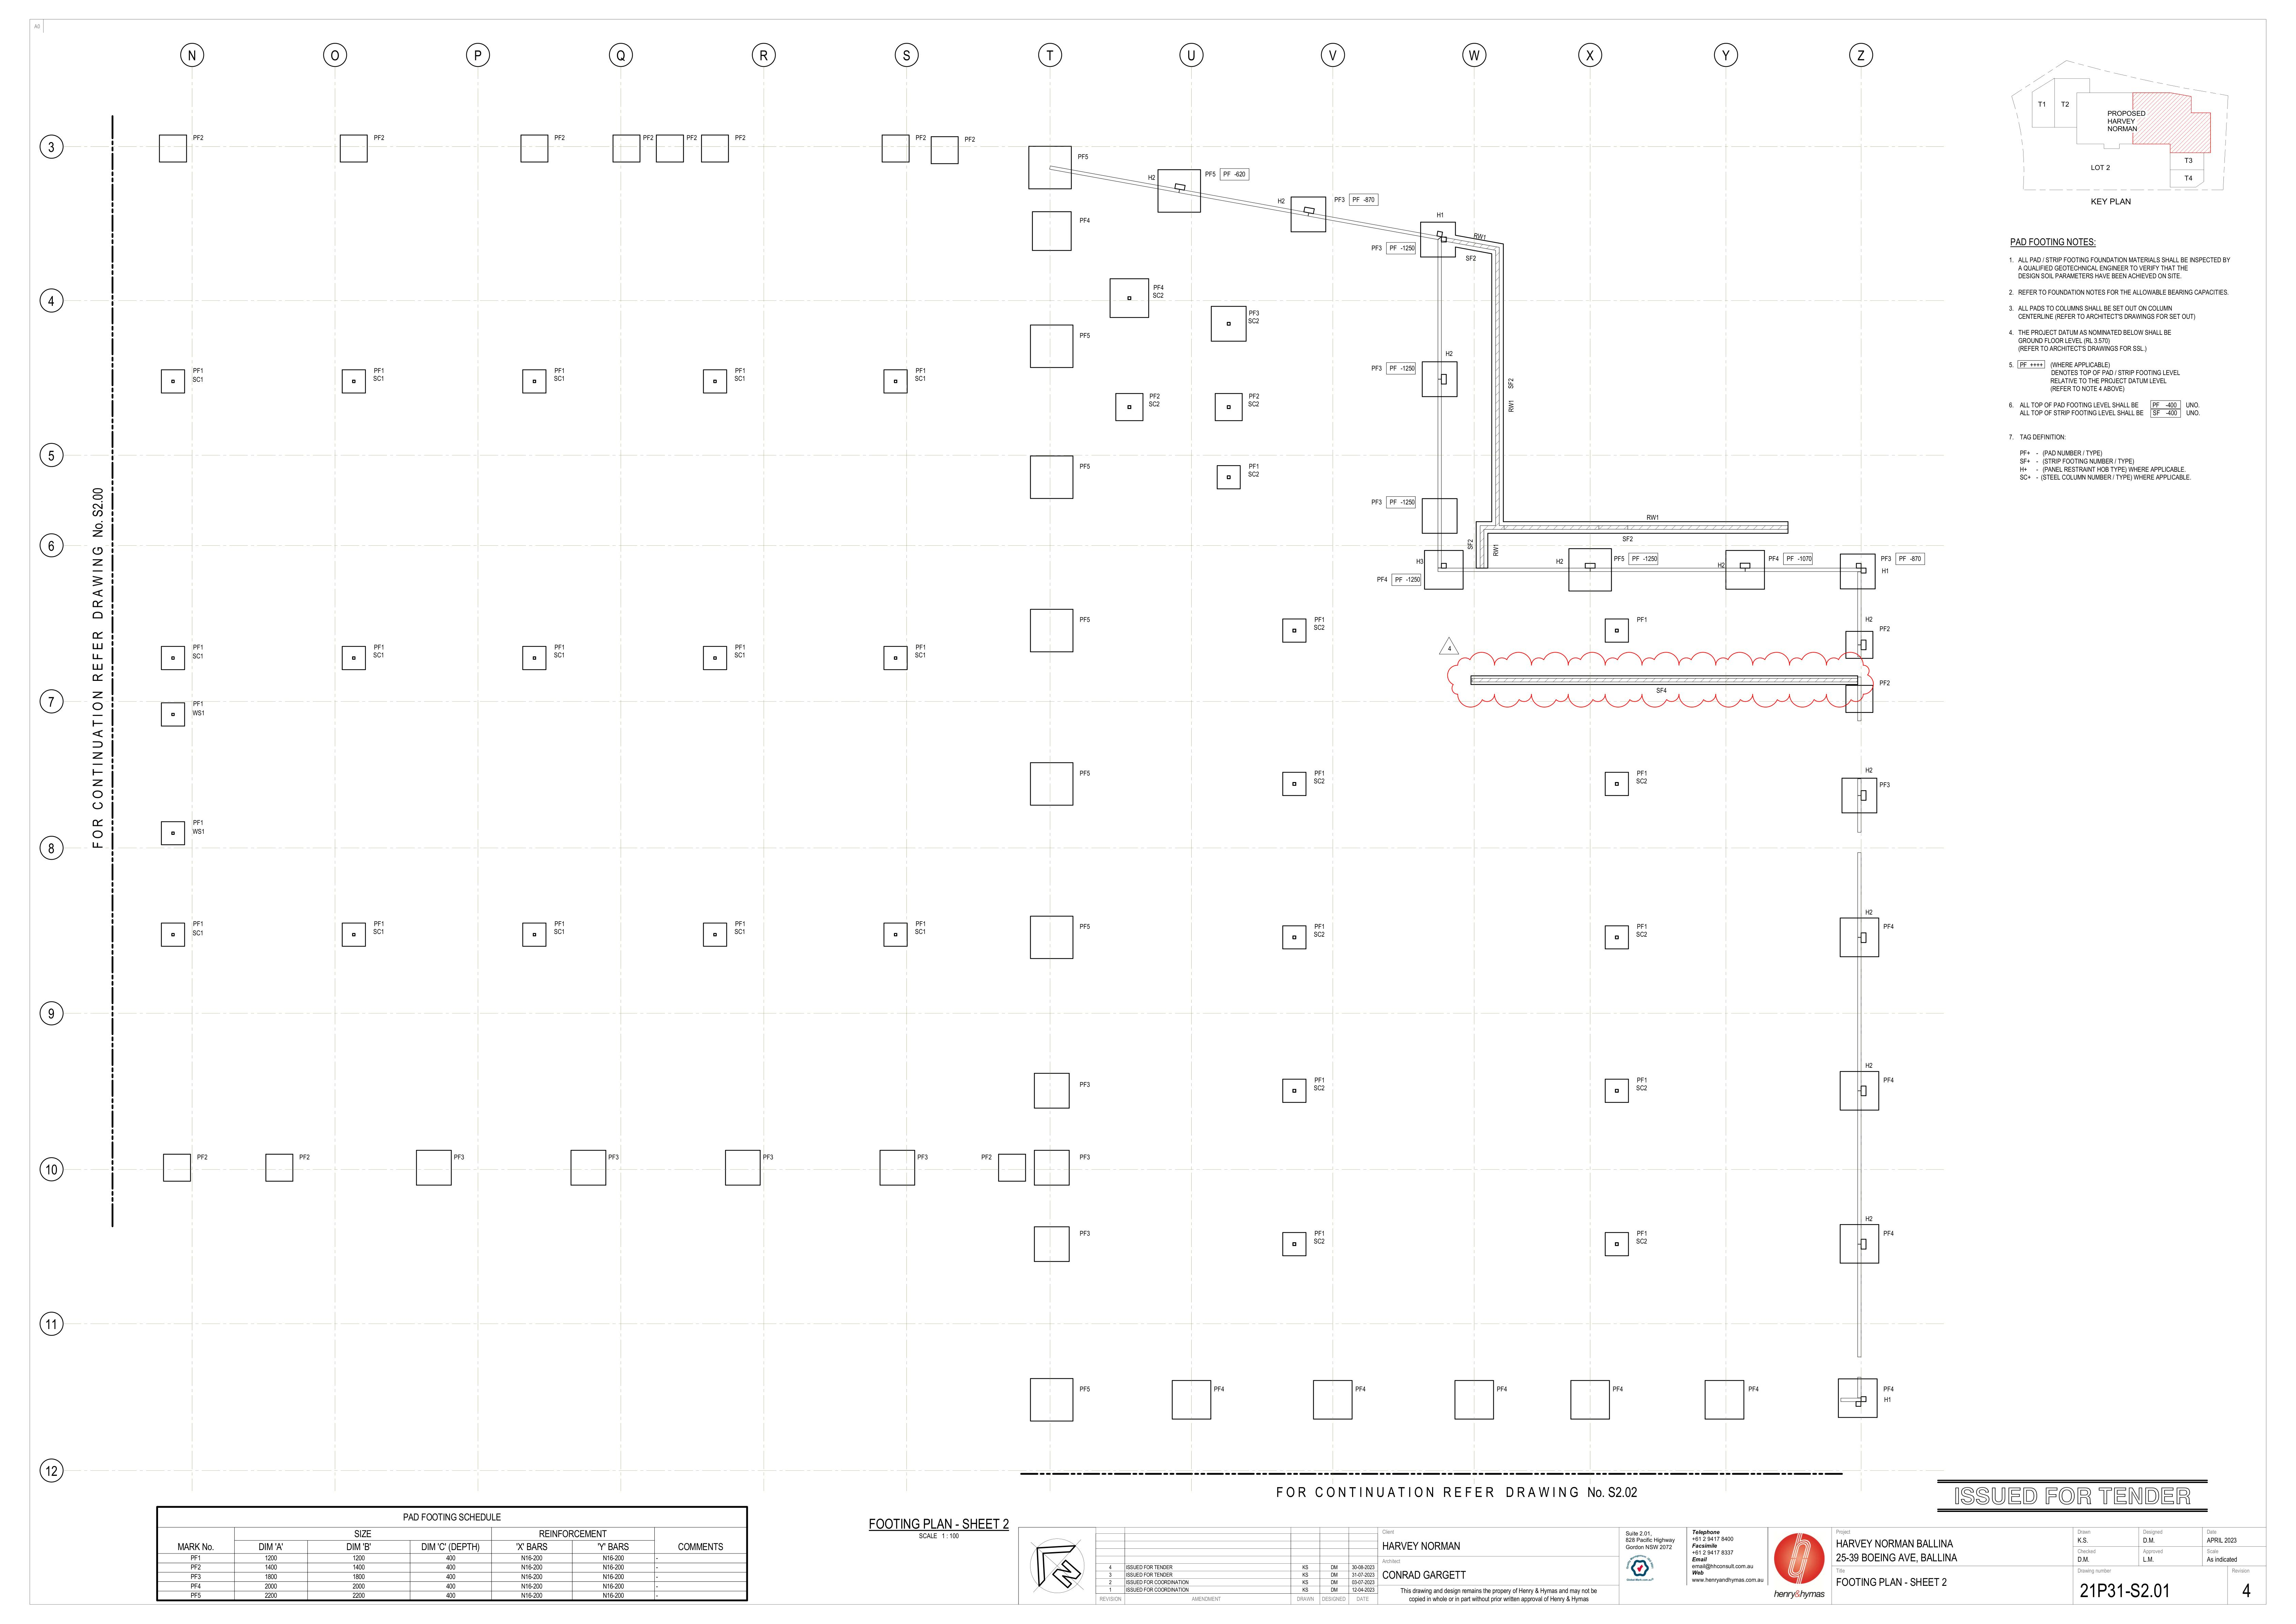PF1: (192, 816, 211, 830), (1630, 916, 1649, 930), (1311, 1070, 1327, 1086), (1304, 1225, 1327, 1236), (193, 917, 211, 930), (373, 916, 390, 928), (1310, 612, 1327, 624), (1631, 1074, 1651, 1084), (912, 914, 928, 926), (1311, 766, 1327, 779), (190, 364, 207, 374), (733, 366, 751, 376), (731, 916, 749, 926), (911, 638, 928, 649), (1633, 766, 1651, 777), (552, 916, 568, 926), (552, 642, 568, 652), (1246, 459, 1262, 469), (1635, 613, 1651, 624), (369, 642, 387, 650), (1631, 1229, 1649, 1237), (554, 364, 568, 374), (373, 366, 389, 374), (190, 642, 206, 650), (1310, 921, 1326, 930), (735, 638, 745, 650), (912, 366, 926, 374), (192, 698, 206, 707)
PF2: (297, 1149, 316, 1164), (552, 130, 571, 142), (960, 134, 979, 146), (369, 128, 387, 141), (1879, 677, 1897, 687), (686, 132, 700, 144), (1878, 622, 1892, 634), (197, 1149, 211, 1162), (640, 132, 656, 142), (735, 134, 751, 144), (1248, 390, 1264, 401), (914, 134, 928, 144), (1150, 390, 1164, 401), (981, 1155, 997, 1164), (192, 134, 207, 141)
PF3: (1076, 1079, 1099, 1095), (1327, 192, 1350, 204), (761, 1149, 784, 1162), (1878, 777, 1895, 791), (1366, 241, 1384, 253), (1370, 496, 1385, 508), (1370, 362, 1384, 374), (454, 1153, 473, 1162), (1879, 552, 1895, 562), (1078, 1229, 1094, 1239), (916, 1153, 932, 1164), (607, 1151, 621, 1162), (1078, 1153, 1094, 1162), (1246, 308, 1262, 315)
PF4: (1878, 1378, 1897, 1396), (1211, 1380, 1229, 1394), (1078, 213, 1095, 225), (1371, 573, 1389, 585), (1746, 1380, 1763, 1392), (1350, 1383, 1370, 1394), (1879, 1072, 1899, 1083), (1494, 1381, 1510, 1394), (1610, 1380, 1624, 1392), (1883, 919, 1895, 933), (1152, 279, 1167, 290), (1883, 1225, 1899, 1236), (1765, 554, 1783, 562)
PF5: (1074, 766, 1095, 780), (1078, 327, 1095, 341), (1078, 612, 1095, 626), (1074, 149, 1094, 162), (1204, 165, 1220, 179), (1074, 460, 1094, 471), (1078, 1381, 1094, 1394), (1616, 554, 1630, 564), (1078, 923, 1094, 932)
SF2: (1464, 536, 1475, 550), (1464, 255, 1477, 265)
